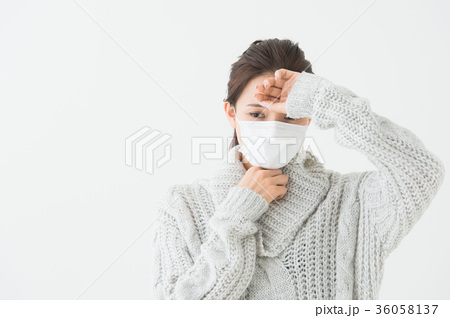mask: (235, 117, 308, 171)
